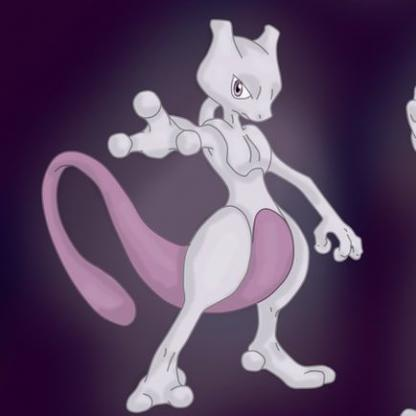Mewtwo: (88, 41, 416, 416)
